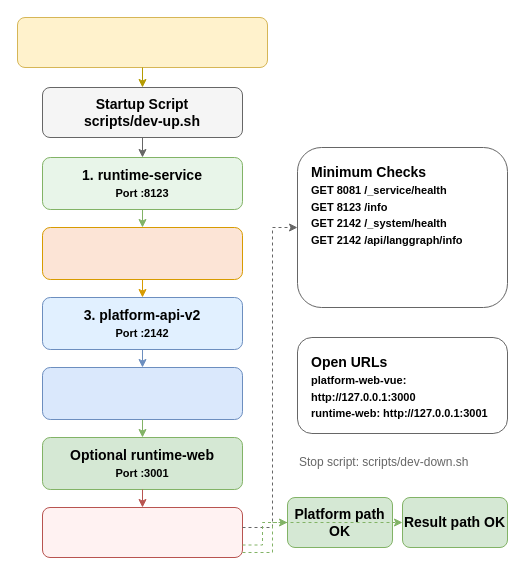
Image size: 525x578. Some labels were removed from this diagram. Here are the shapes that lost their labels. From the top down, the centre of each, then its label:
[142,42]: Local Startup Flow
[142,253]: 2. interaction-data-service Port :8081
[142,393]: 4. platform-web-vue Port :3000
[142,532]: Run Health Checks scripts/check-health.sh
